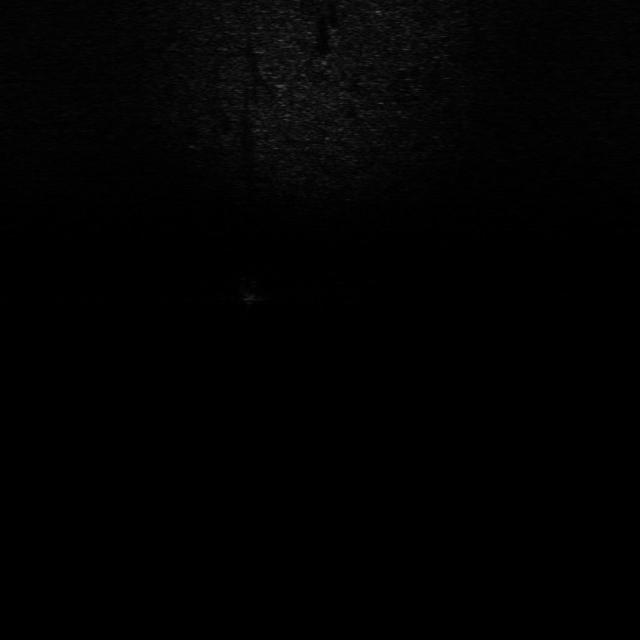human body: (233, 274, 263, 314)
